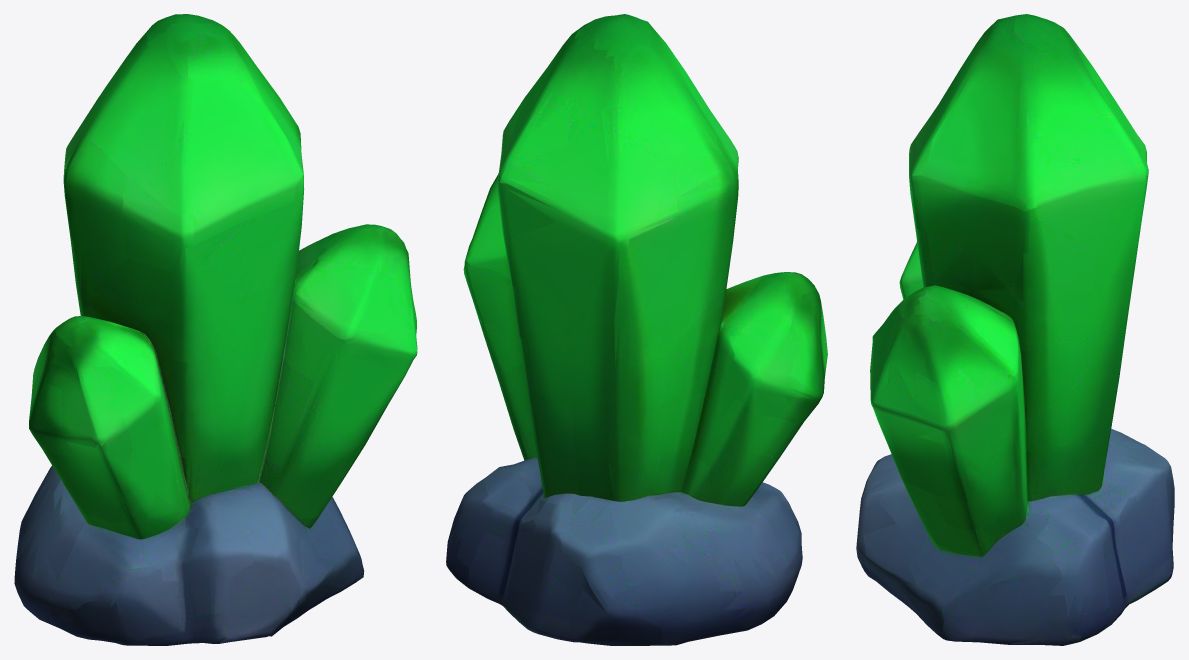
File: la_cristal.glb
The picture shows the model from 3 angles, left to right: view 1: azimuth 30°, elevation 25°; view 2: azimuth 150°, elevation 25°; view 3: azimuth 270°, elevation 25°; orthographic projection.
Bounding box in the file's own units: 0.6895 × 1 × 0.5176.
Materials: 1 (1 with a texture image).
